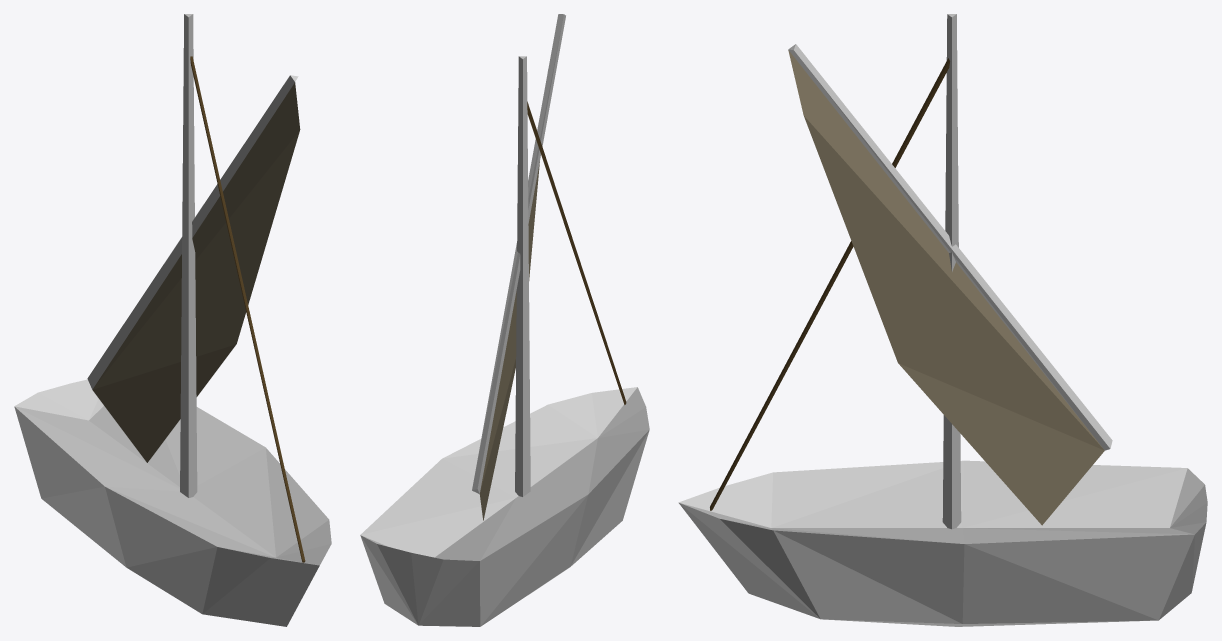
The model's file is NW_HARBOUR_SMALL_BOAT_02.OBJ.
3 views of the same model, side by side, from view 1: azimuth 30°, elevation 25°; view 2: azimuth 150°, elevation 25°; view 3: azimuth 270°, elevation 25° (orthographic). The views are drawn at different scales.
Visible parts, largest first — view 1: NW_HARBOUR_SMALL_BOAT_02; view 2: NW_HARBOUR_SMALL_BOAT_02; view 3: NW_HARBOUR_SMALL_BOAT_02.
Part boxes in pixels (x1=…): NW_HARBOUR_SMALL_BOAT_02: x1=14, y1=14, x2=331, y2=626; NW_HARBOUR_SMALL_BOAT_02: x1=360, y1=14, x2=649, y2=626; NW_HARBOUR_SMALL_BOAT_02: x1=678, y1=14, x2=1207, y2=626.
Bounding box in the file's own units: 3.02 × 10.3 × 8.09.
